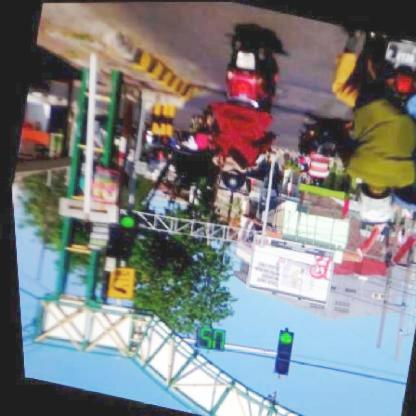Traffic Light -Green-: (108, 214, 136, 260), (266, 329, 292, 376)
